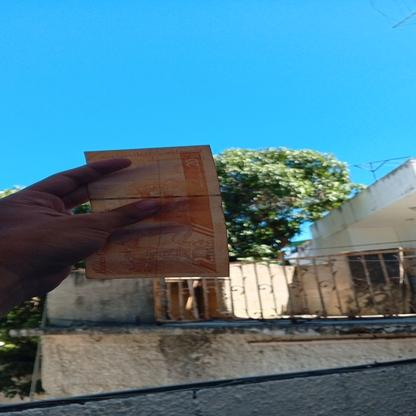twenty-back-vef: (84, 144, 230, 280)
